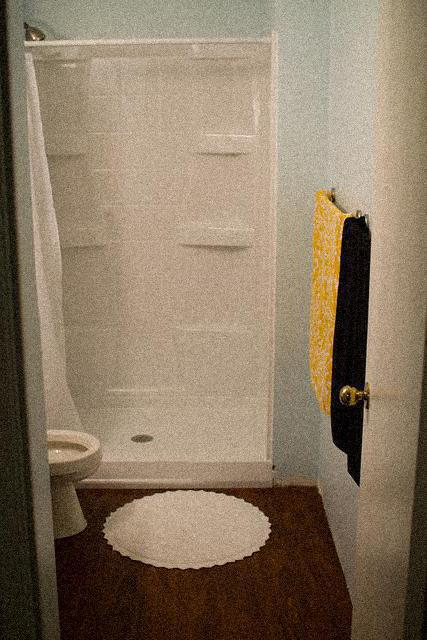Ducha: (8, 20, 279, 498)
